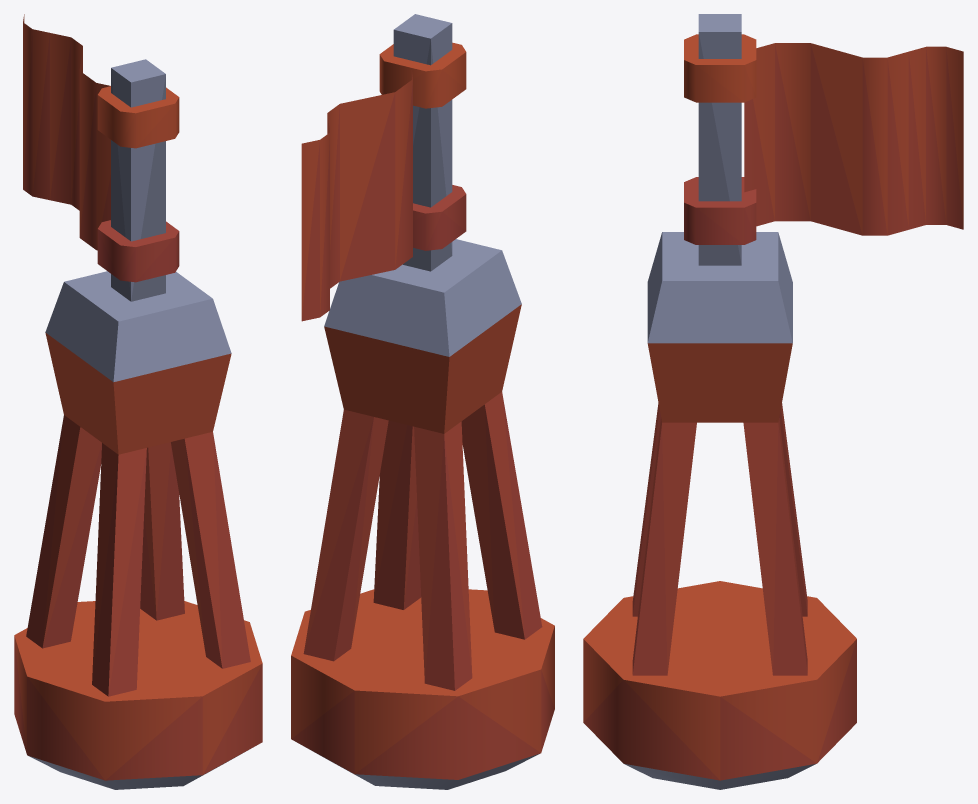
The model's file is watercraft_buoy_flag.glb.
3 views of the same model, side by side, from view 1: azimuth 30°, elevation 25°; view 2: azimuth 150°, elevation 25°; view 3: azimuth 270°, elevation 25° (orthographic). The views are drawn at different scales.
Parts seen in each view (by area): view 1: watercraft_buoy_flag; view 2: watercraft_buoy_flag; view 3: watercraft_buoy_flag.
Part boxes in pixels (box(x1,y1,x2,y2)): watercraft_buoy_flag: box(14, 14, 262, 789); watercraft_buoy_flag: box(291, 14, 554, 789); watercraft_buoy_flag: box(583, 14, 963, 789).
Bounding box in the file's own units: 0.9282 × 2.72 × 1.29.
